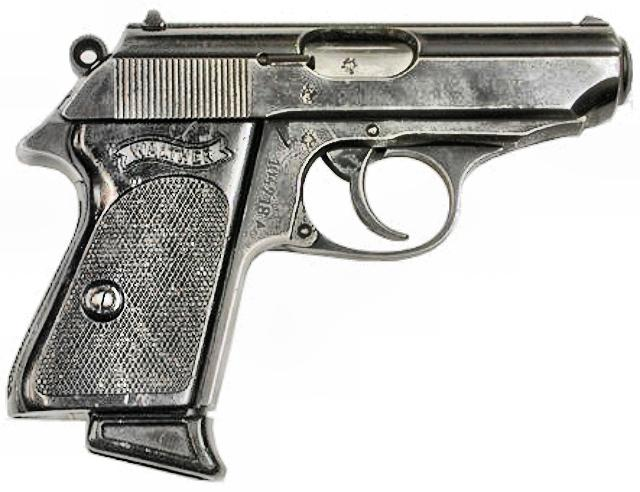pistol: (5, 15, 633, 481)
